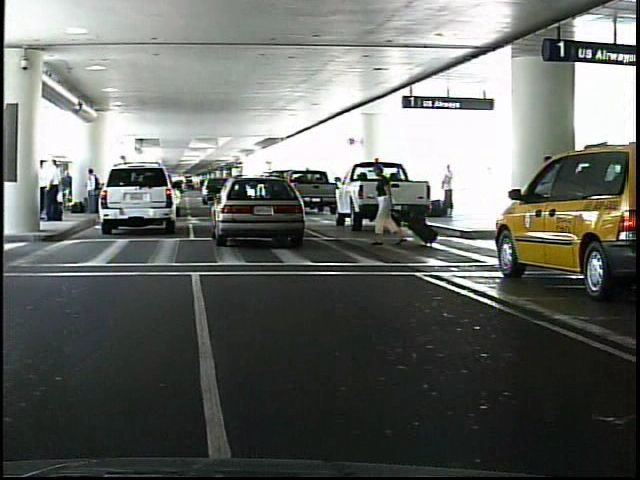person: (375, 162, 401, 249), (52, 160, 67, 225), (90, 166, 105, 221), (445, 160, 457, 217)
